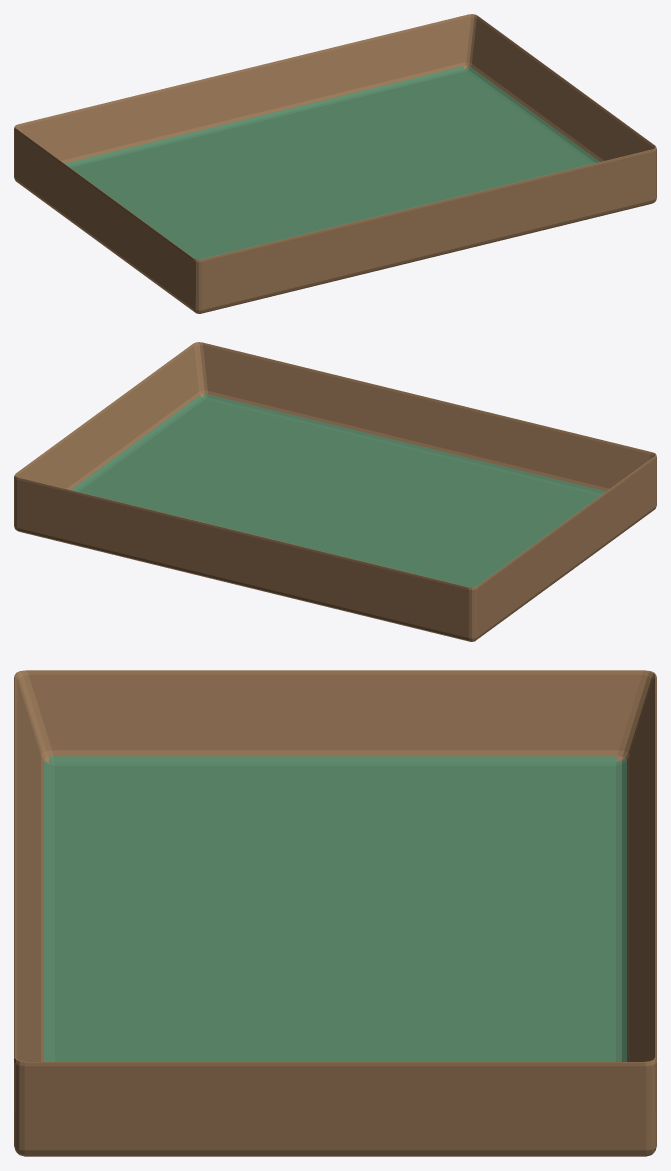
File: proc_dice_tray_felt_260x180.glb
3 views of the same model, one above another, from view 1: azimuth 30°, elevation 25°; view 2: azimuth 150°, elevation 25°; view 3: azimuth 270°, elevation 25° (orthographic). The views are drawn at different scales.
Parts seen in each view (by area): view 1: dice_tray; view 2: dice_tray; view 3: dice_tray.
Boxes of the visible parts, box(x1,y1,x2,y2) form: dice_tray: box(14, 14, 656, 313); dice_tray: box(14, 342, 656, 641); dice_tray: box(14, 670, 656, 1156).
Bounding box in the file's own units: 0.26 × 0.0301 × 0.18.
